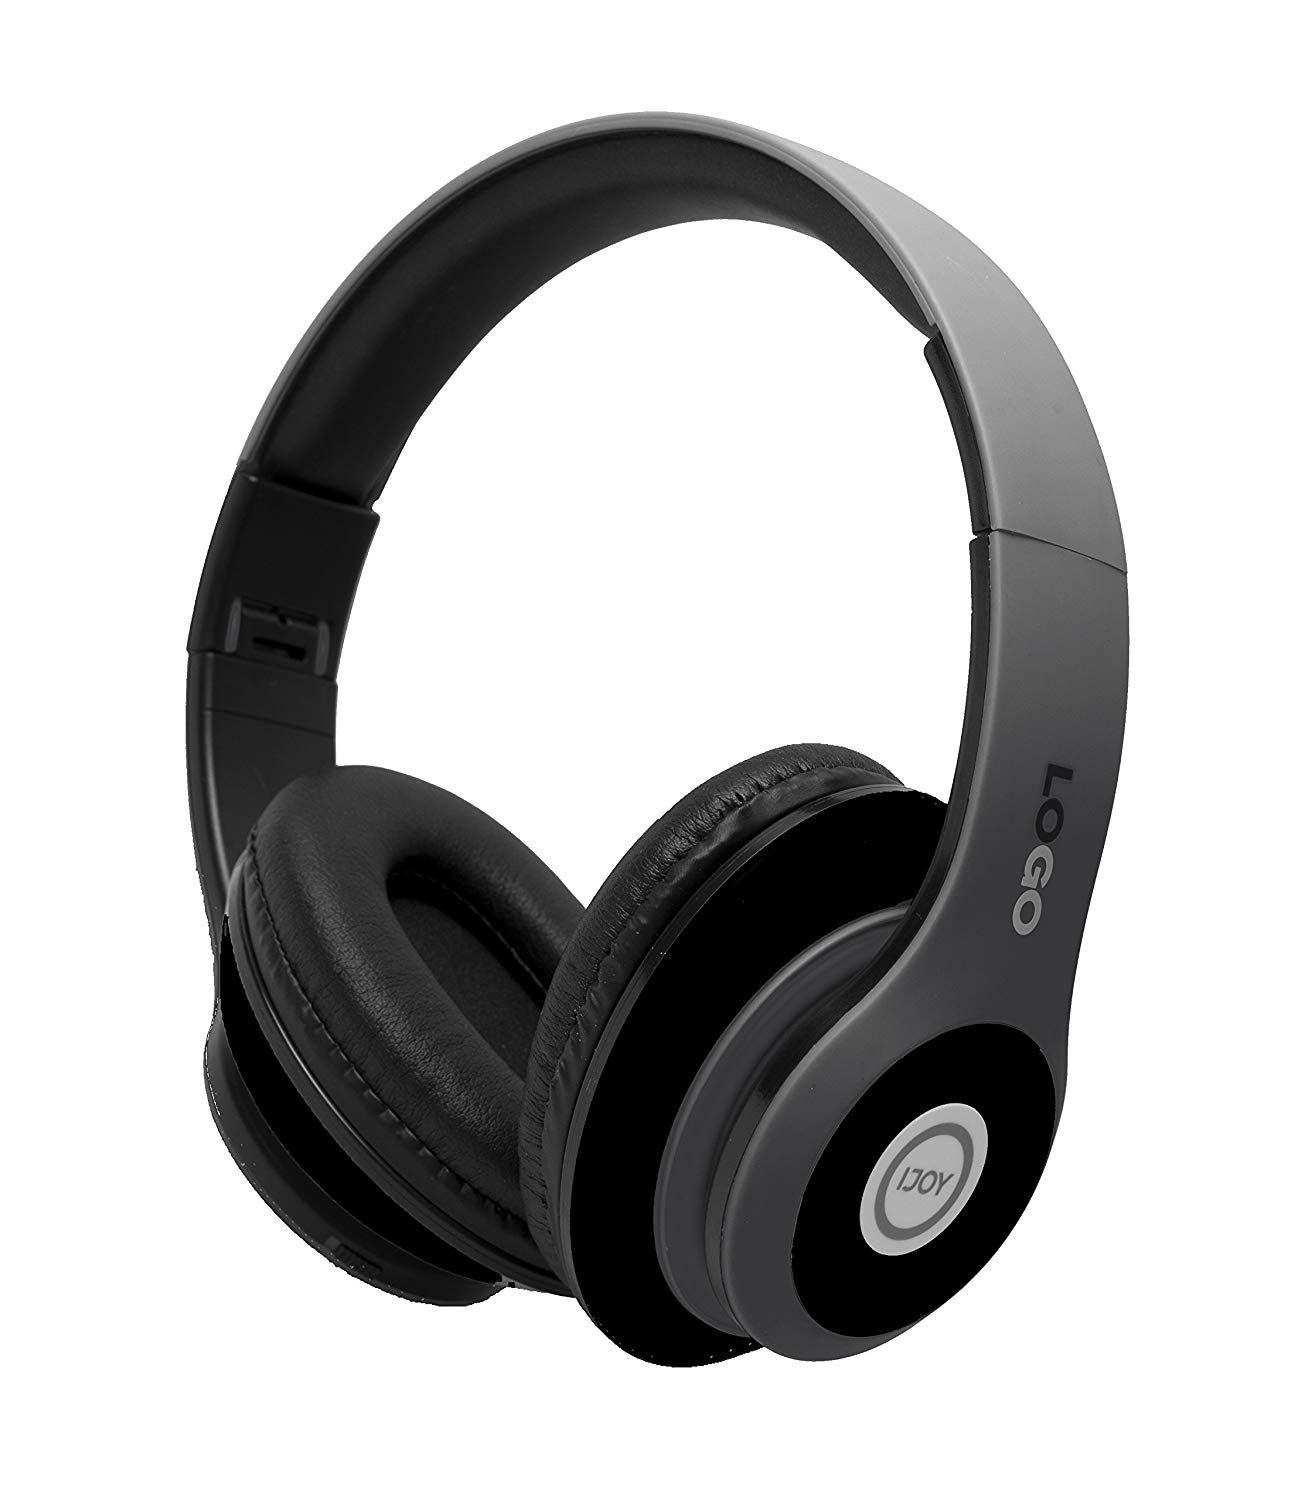Headphone: (163, 103, 1155, 1403)
